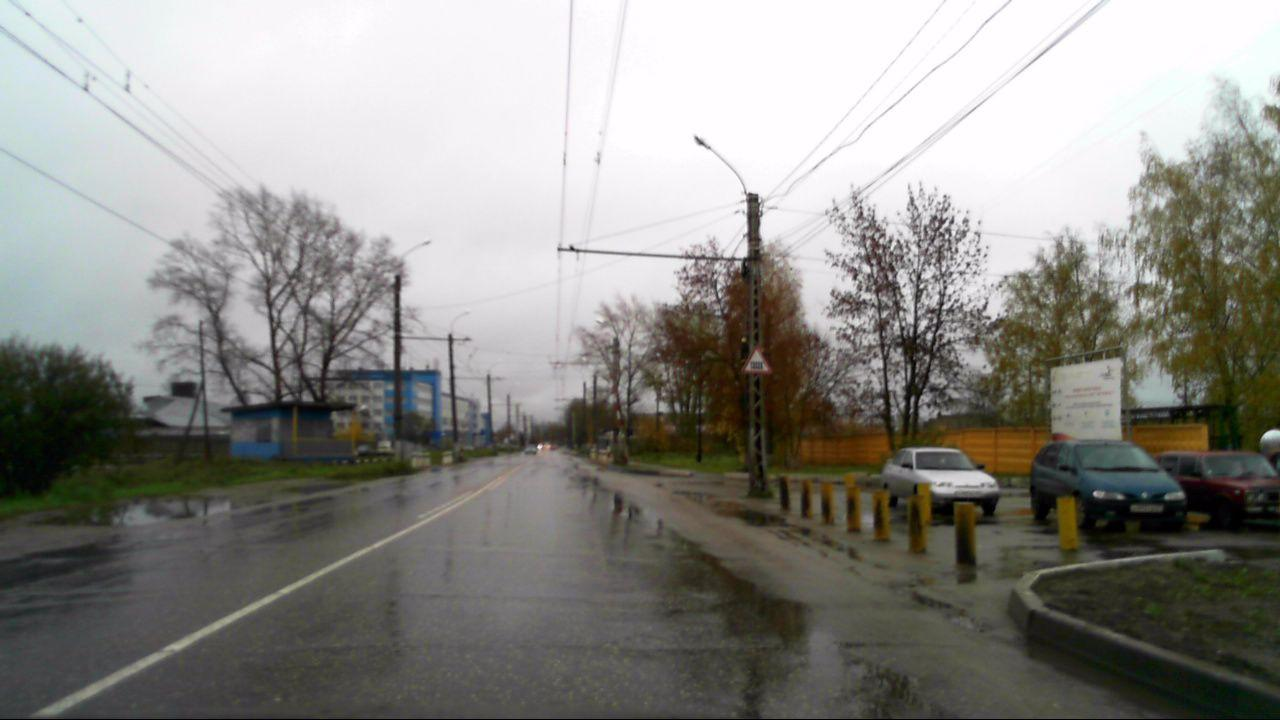1_1: (740, 346, 774, 376)
